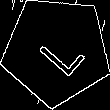L_NW: (28, 23, 85, 79)
